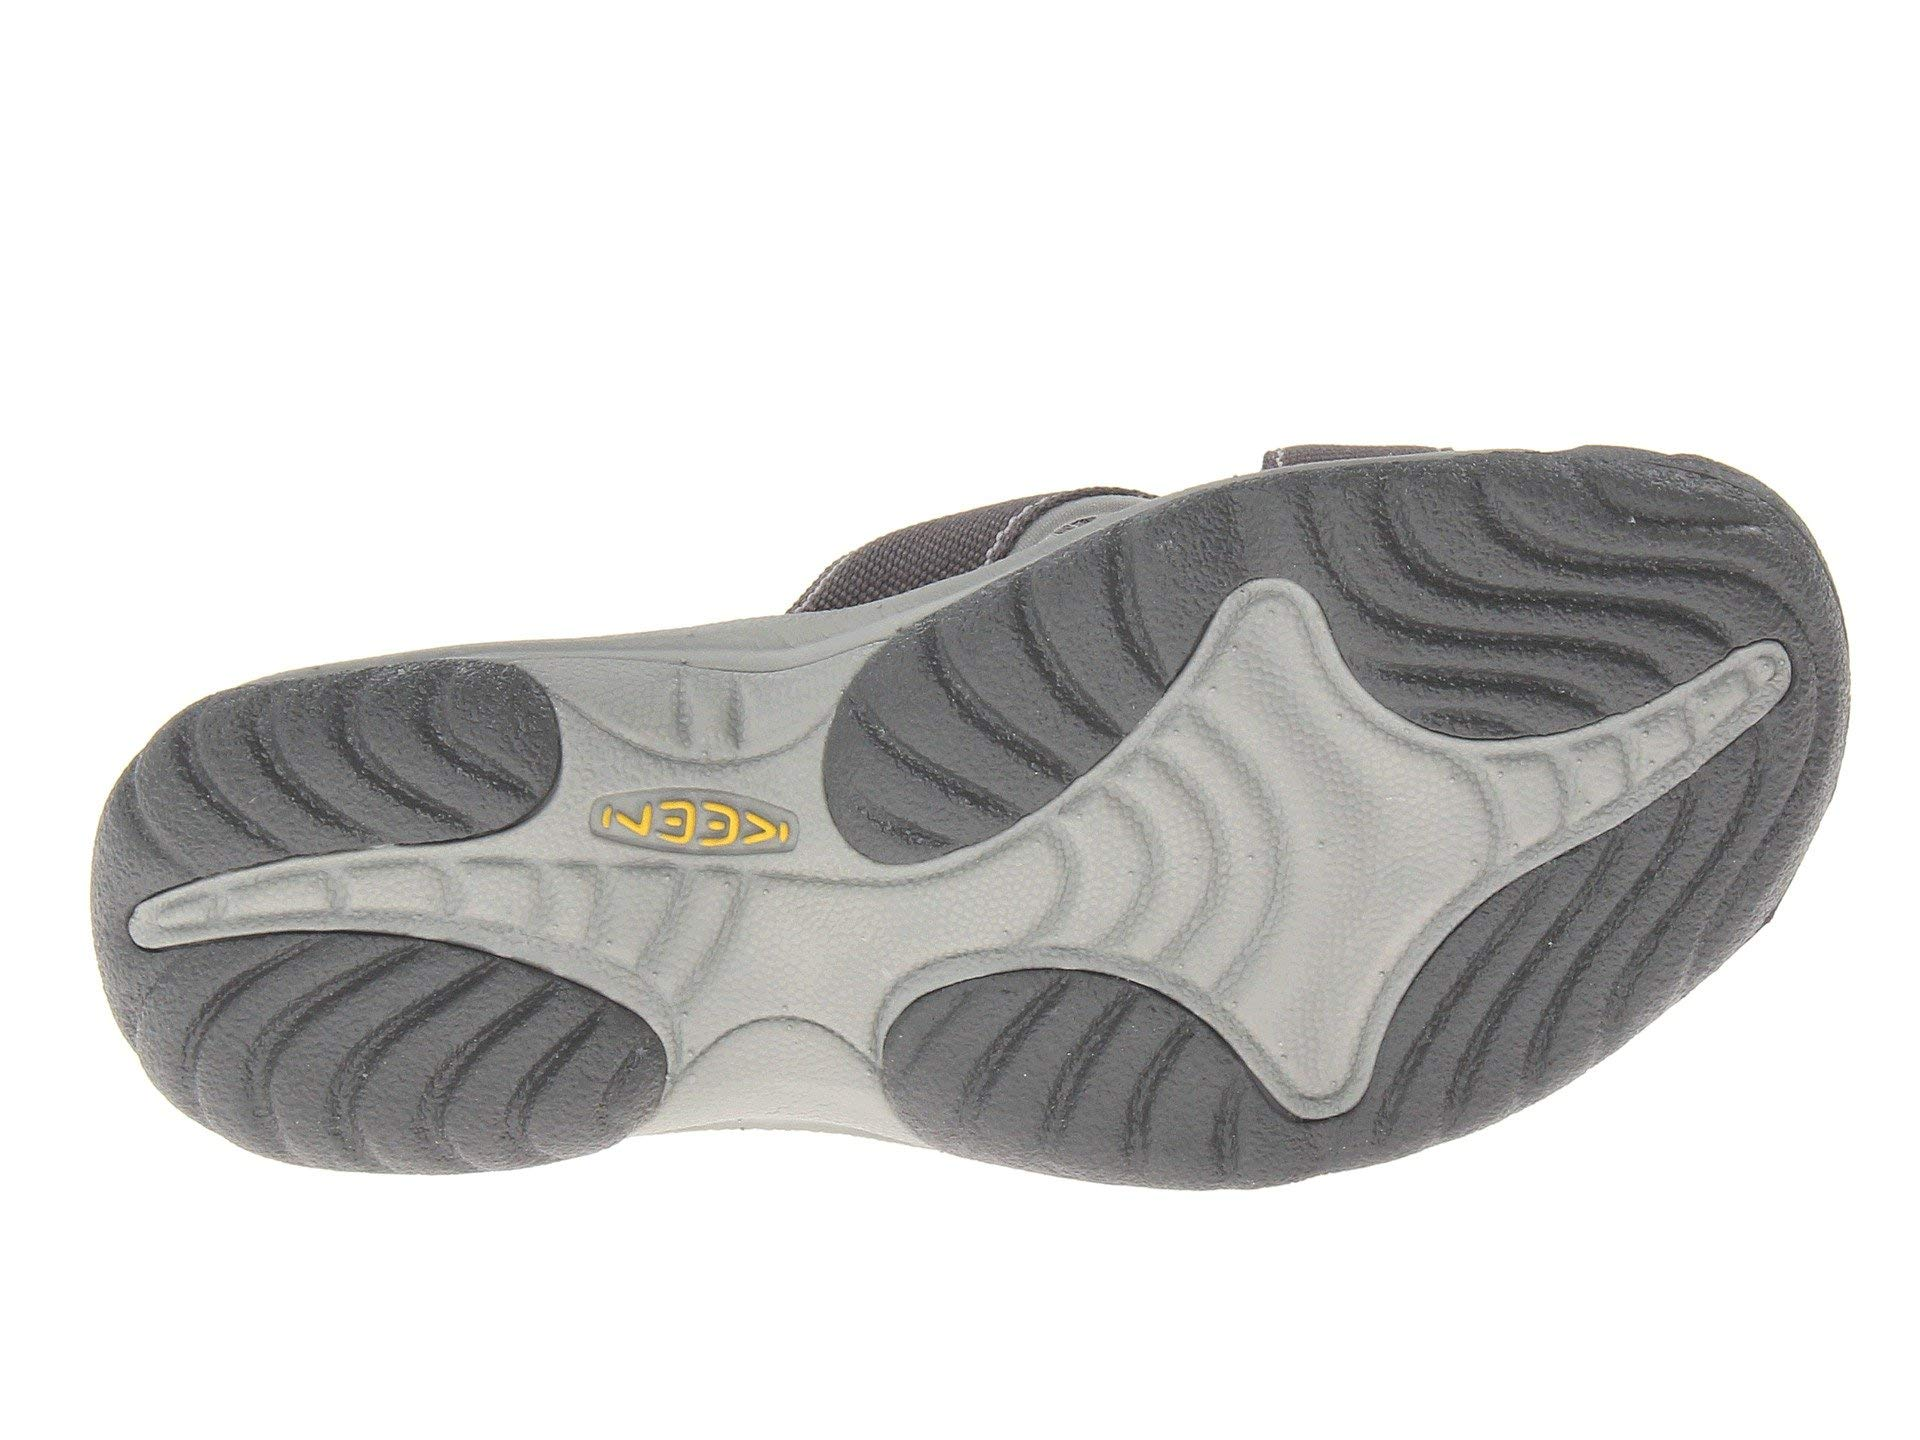line: (1460, 647, 1785, 849)
quad: (145, 870, 853, 964), (1460, 647, 1785, 849), (571, 771, 807, 874)
text: (571, 771, 807, 874)
triangle: (145, 870, 853, 964)
